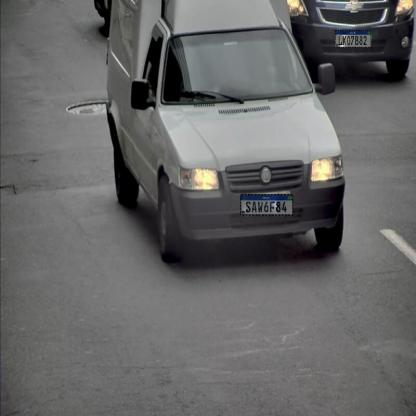PlacaM: (240, 194, 294, 216), (335, 30, 371, 48)
